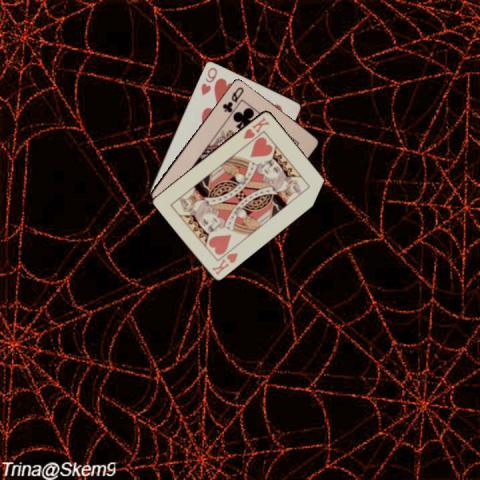9h: (198, 64, 219, 97)
Kh: (240, 113, 271, 141), (209, 249, 239, 276)
Qc: (220, 83, 246, 114)
